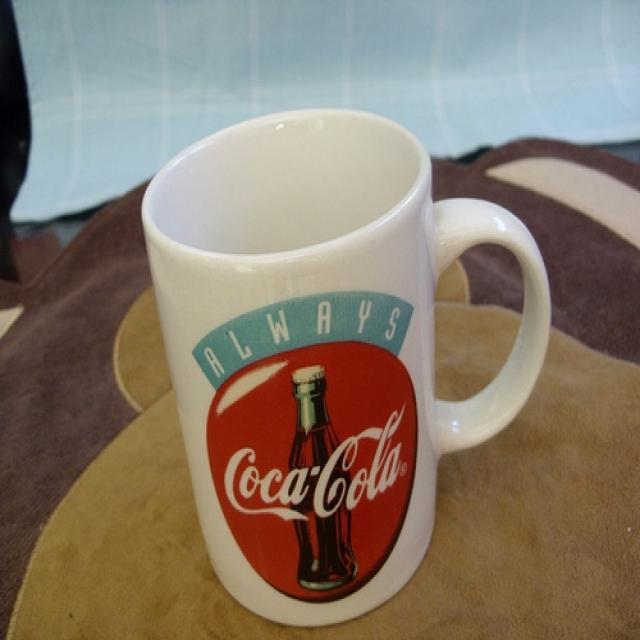cocacola: (221, 402, 421, 530)
